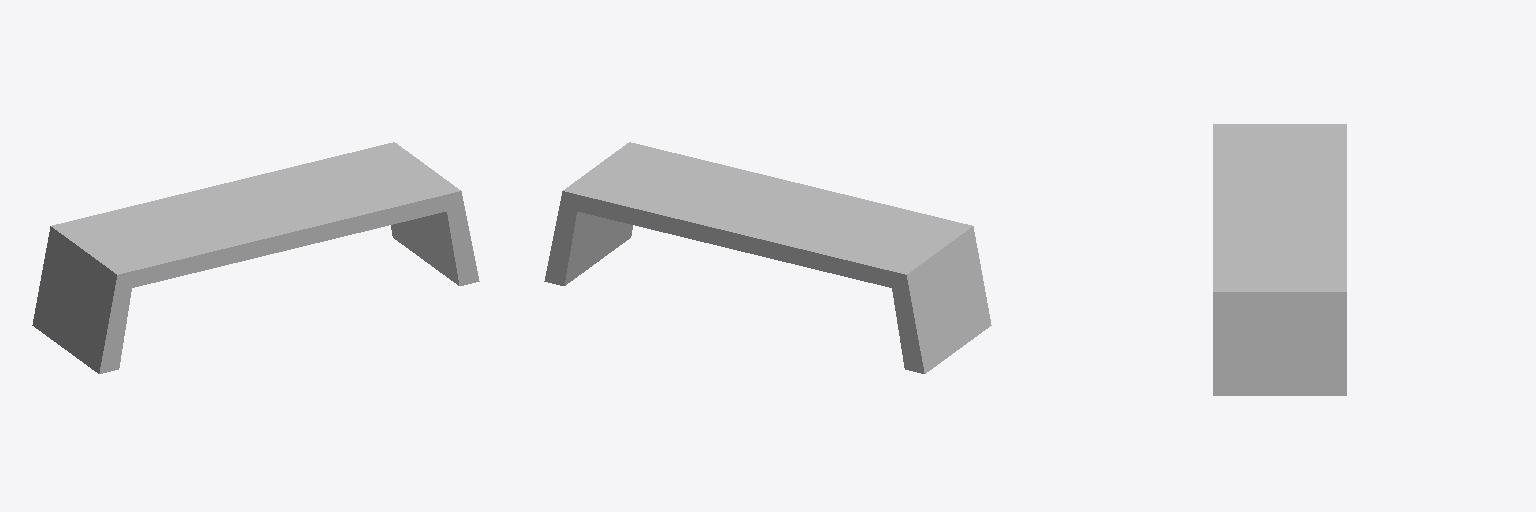
Rendered from Table_Bench 1.obj.
3 views of the same model, side by side, from view 1: azimuth 30°, elevation 25°; view 2: azimuth 150°, elevation 25°; view 3: azimuth 270°, elevation 25° (orthographic).
Visible parts, largest first — view 1: Cube.001_Cube.002; view 2: Cube.001_Cube.002; view 3: Cube.001_Cube.002.
Boxes of the visible parts, x1=… form: Cube.001_Cube.002: x1=32, y1=142, x2=479, y2=373; Cube.001_Cube.002: x1=544, y1=142, x2=991, y2=373; Cube.001_Cube.002: x1=1213, y1=124, x2=1346, y2=395.
Bounding box in the file's own units: 2.46 × 0.5888 × 0.7504.